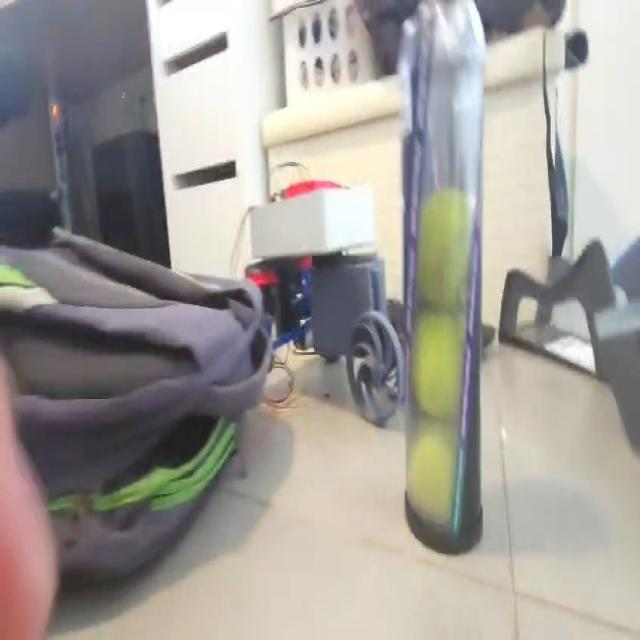Robot: (245, 178, 406, 428)
